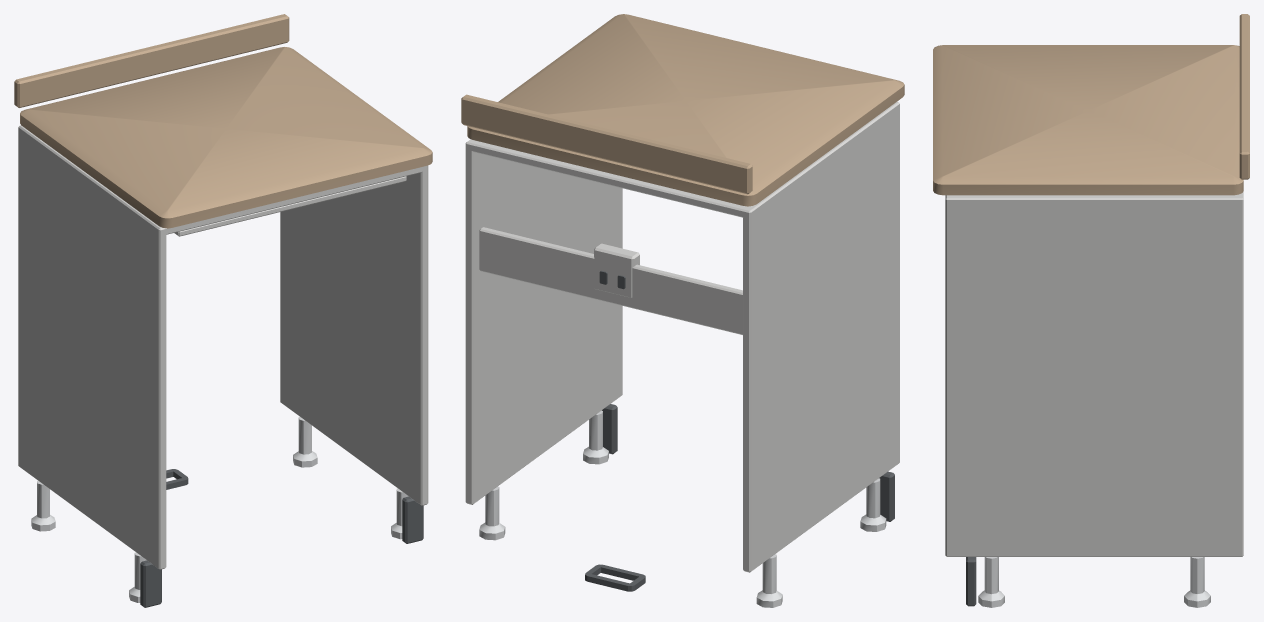
The model's file is home-appliances-and-utility-appliance-housing-frame-60-1e84d947__14168.glb.
The picture shows the model from 3 angles, left to right: view 1: azimuth 30°, elevation 25°; view 2: azimuth 150°, elevation 25°; view 3: azimuth 270°, elevation 25°; orthographic projection. The views are drawn at different scales.
Visible parts, largest first — view 1: appliance-housing-frame-600; view 2: appliance-housing-frame-600; view 3: appliance-housing-frame-600.
Part boxes in pixels (x1,y1,x2,y2): appliance-housing-frame-600: (14, 14, 432, 607); appliance-housing-frame-600: (461, 14, 904, 607); appliance-housing-frame-600: (933, 14, 1249, 607).
Size of the model in its own units: 0.67 by 0.972 by 0.616.
